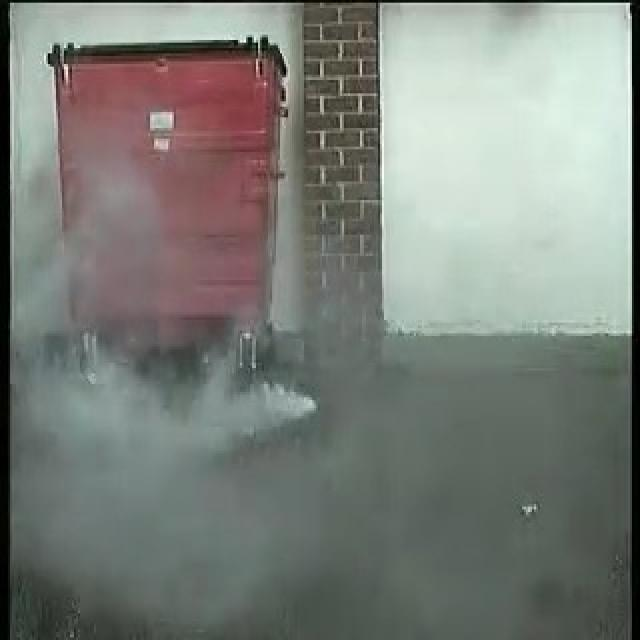smoke: (44, 225, 319, 494)
